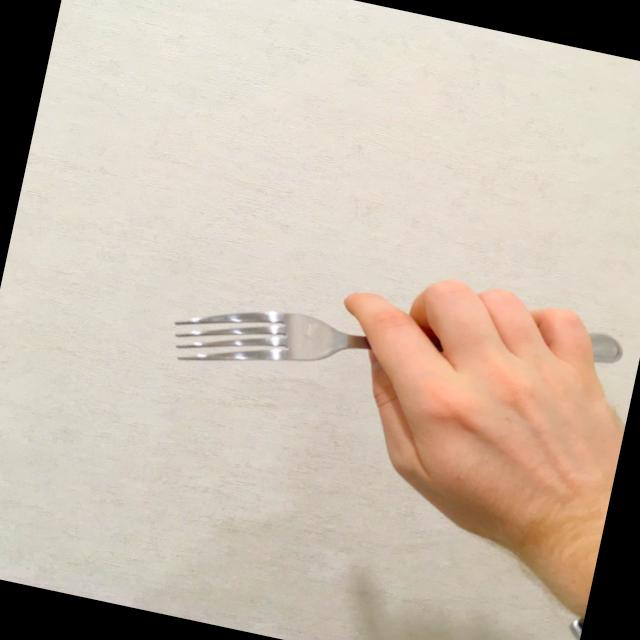fork: (166, 243, 625, 455)
